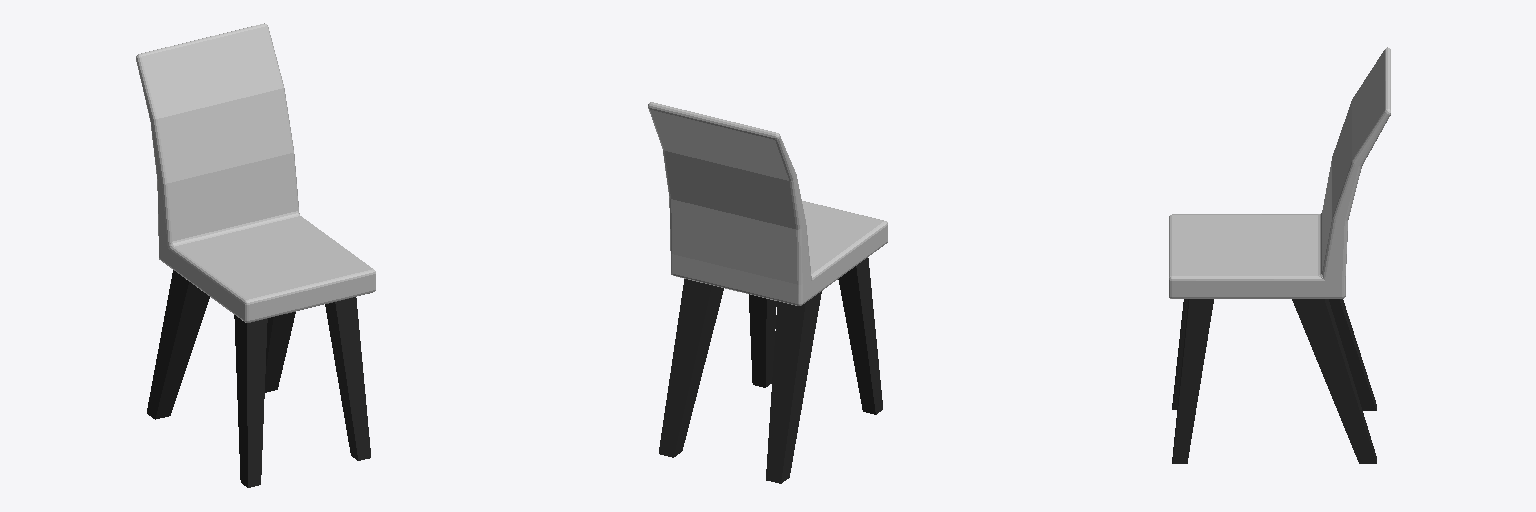
3 renders of one model, left to right at view 1: azimuth 30°, elevation 25°; view 2: azimuth 150°, elevation 25°; view 3: azimuth 270°, elevation 25°, orthographic.
Parts seen in each view (by area): view 1: Cube, Cube.002; view 2: Cube, Cube.002; view 3: Cube, Cube.002.
Part boxes in pixels (x1,y1,x2,y2): Cube: (136,23,375,322); Cube.002: (147,270,370,487); Cube: (648,102,887,305); Cube.002: (659,258,882,483); Cube: (1169,47,1390,298); Cube.002: (1172,299,1376,463).
Bounding box in the file's own units: 0.6 × 1.55 × 0.8795.
Materials: 2 (1 with a texture image).